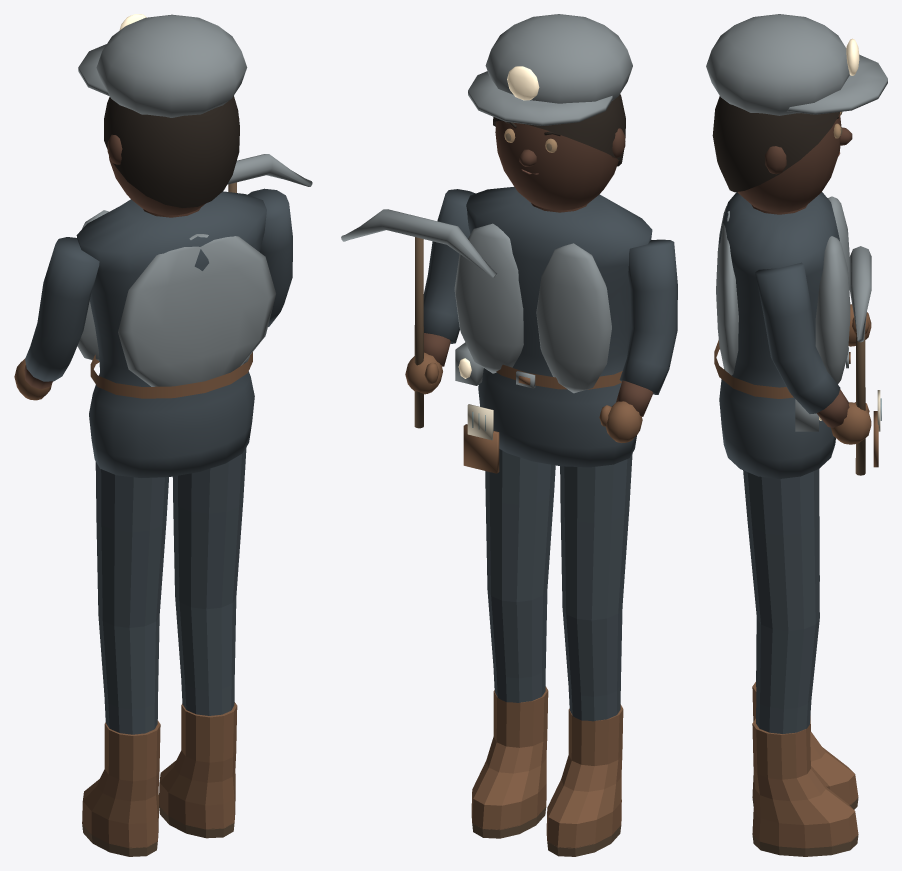
File: SM_NPC_PEDRO.glb
3 renders of one model, left to right at view 1: azimuth 30°, elevation 25°; view 2: azimuth 150°, elevation 25°; view 3: azimuth 270°, elevation 25°, orthographic. The views are drawn at different scales.
Parts seen in each view (by area): view 1: SM_NPC_PEDRO_BODY, SM_NPC_PEDRO_LEG_L, SM_NPC_PEDRO_HAIR, SM_NPC_PEDRO_LEG_R, SM_NPC_PEDRO_ARM_L, SM_NPC_PEDRO_ARM_R, SM_NPC_PEDRO_HEAD; view 2: SM_NPC_PEDRO_BODY, SM_NPC_PEDRO_LEG_L, SM_NPC_PEDRO_LEG_R, SM_NPC_PEDRO_HAIR, SM_NPC_PEDRO_ARM_R, SM_NPC_PEDRO_ARM_L, SM_NPC_PEDRO_HEAD; view 3: SM_NPC_PEDRO_BODY, SM_NPC_PEDRO_LEG_R, SM_NPC_PEDRO_HAIR, SM_NPC_PEDRO_ARM_R, SM_NPC_PEDRO_HEAD, SM_NPC_PEDRO_LEG_L, SM_NPC_PEDRO_ARM_L.
Boxes of the visible parts, x1,y1,x2,y2 form: SM_NPC_PEDRO_BODY: (76,191,275,477); SM_NPC_PEDRO_LEG_L: (82,461,168,856); SM_NPC_PEDRO_HAIR: (78,14,247,207); SM_NPC_PEDRO_LEG_R: (159,447,246,838); SM_NPC_PEDRO_ARM_L: (14,237,99,400); SM_NPC_PEDRO_ARM_R: (227,154,312,326); SM_NPC_PEDRO_HEAD: (107,118,239,215); SM_NPC_PEDRO_BODY: (454,187,652,473); SM_NPC_PEDRO_LEG_L: (546,453,632,856); SM_NPC_PEDRO_LEG_R: (471,449,555,838); SM_NPC_PEDRO_HAIR: (468,14,632,166); SM_NPC_PEDRO_ARM_R: (341,189,497,428); SM_NPC_PEDRO_ARM_L: (599,239,677,442); SM_NPC_PEDRO_HEAD: (495,121,625,210); SM_NPC_PEDRO_BODY: (714,192,881,478); SM_NPC_PEDRO_LEG_R: (743,469,858,856); SM_NPC_PEDRO_HAIR: (706,14,887,192); SM_NPC_PEDRO_ARM_R: (755,246,871,475); SM_NPC_PEDRO_HEAD: (737,114,852,212); SM_NPC_PEDRO_LEG_L: (752,469,858,809); SM_NPC_PEDRO_ARM_L: (848,304,871,346).
Bounding box in the file's own units: 0.7367 × 1.87 × 0.3848.
